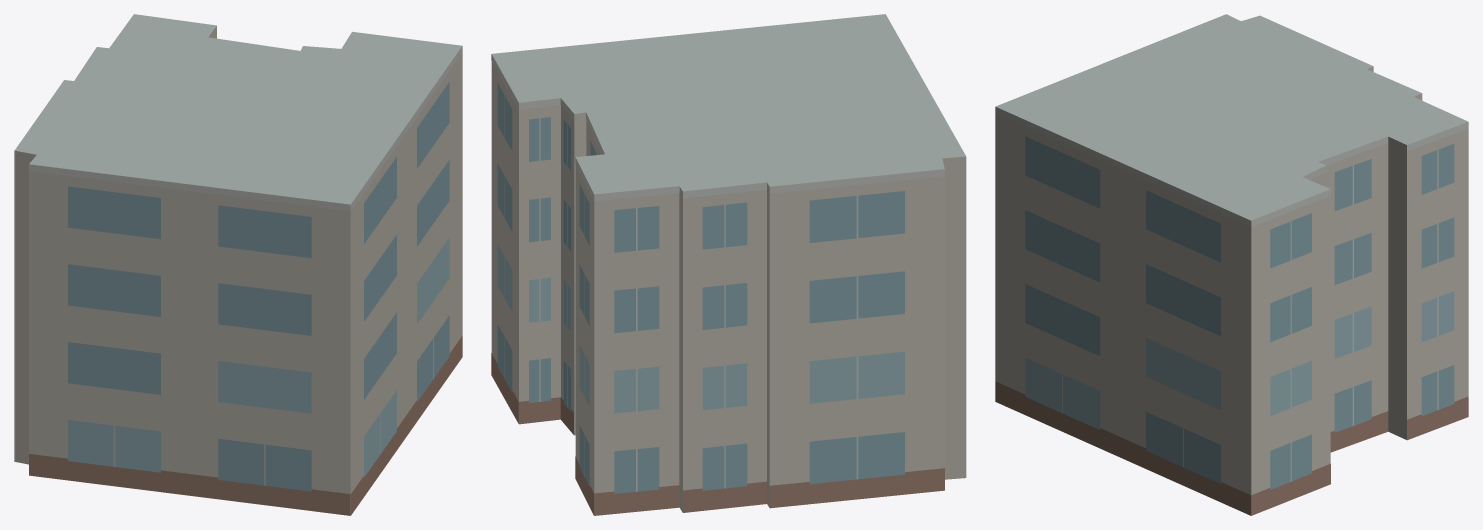
The model's file is survey-upis-32612970.glb.
The picture shows the model from 3 angles, left to right: view 1: azimuth 30°, elevation 25°; view 2: azimuth 150°, elevation 25°; view 3: azimuth 270°, elevation 25°; orthographic projection. The views are drawn at different scales.
Parts seen in each view (by area): view 1: survey-upis-32612970.tmp; view 2: survey-upis-32612970.tmp; view 3: survey-upis-32612970.tmp.
Part boxes in pixels (<box>): survey-upis-32612970.tmp: <box>14,14,462,515</box>; survey-upis-32612970.tmp: <box>491,14,966,515</box>; survey-upis-32612970.tmp: <box>995,14,1468,515</box>.
Size of the model in its own units: 16.68 by 11.1 by 16.14.
